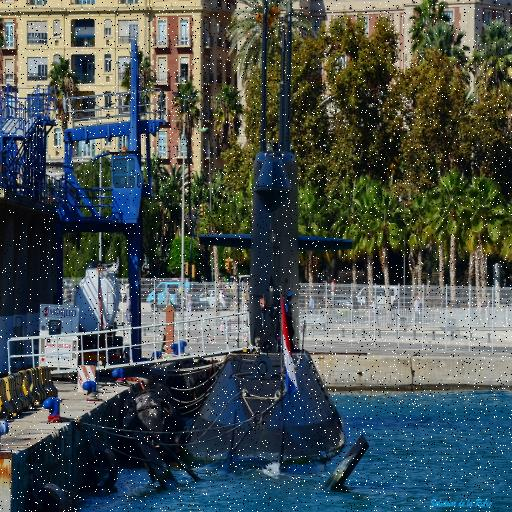submarine: (188, 1, 375, 496)
